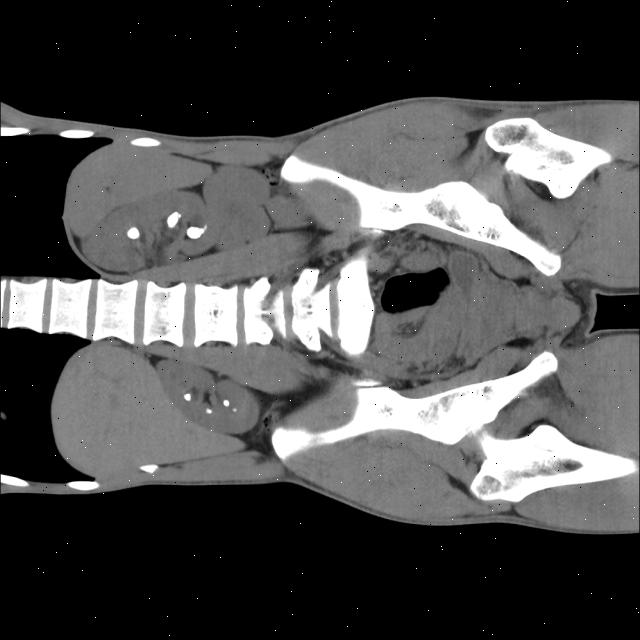kidneystone: (186, 225, 205, 238), (167, 211, 181, 228), (127, 226, 140, 239), (184, 391, 191, 400), (223, 399, 230, 406)
